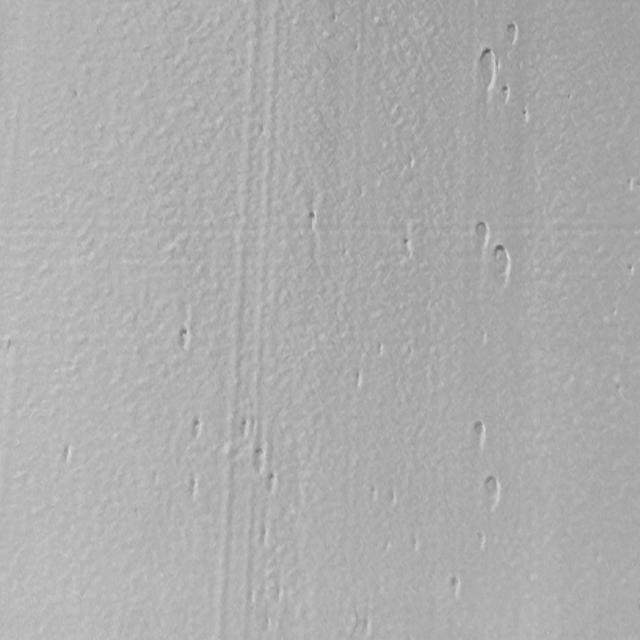pin holes: (487, 242, 512, 286), (478, 472, 502, 509), (476, 48, 498, 82), (470, 219, 491, 250), (469, 417, 489, 447), (249, 448, 267, 476), (186, 416, 205, 442), (236, 416, 255, 442), (176, 323, 194, 350), (302, 210, 322, 234), (502, 21, 520, 47), (446, 575, 464, 601), (398, 237, 416, 260), (2, 334, 19, 358), (473, 530, 489, 554), (265, 470, 280, 494), (185, 476, 200, 499), (352, 370, 366, 389), (500, 85, 512, 106), (520, 106, 531, 126), (63, 446, 72, 468), (362, 618, 372, 637), (625, 262, 636, 278), (369, 485, 378, 503), (389, 491, 397, 509), (383, 540, 393, 552), (412, 536, 418, 552), (378, 342, 384, 358), (265, 615, 270, 629), (262, 524, 266, 540), (250, 588, 254, 602)
